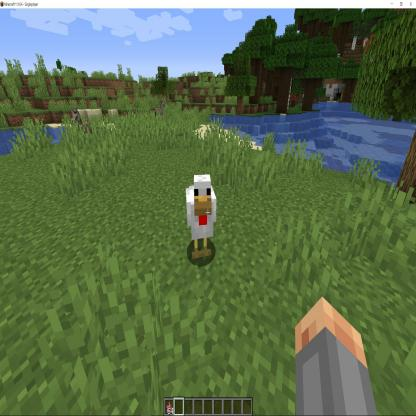minecraft-pigs: (184, 174, 220, 263)
